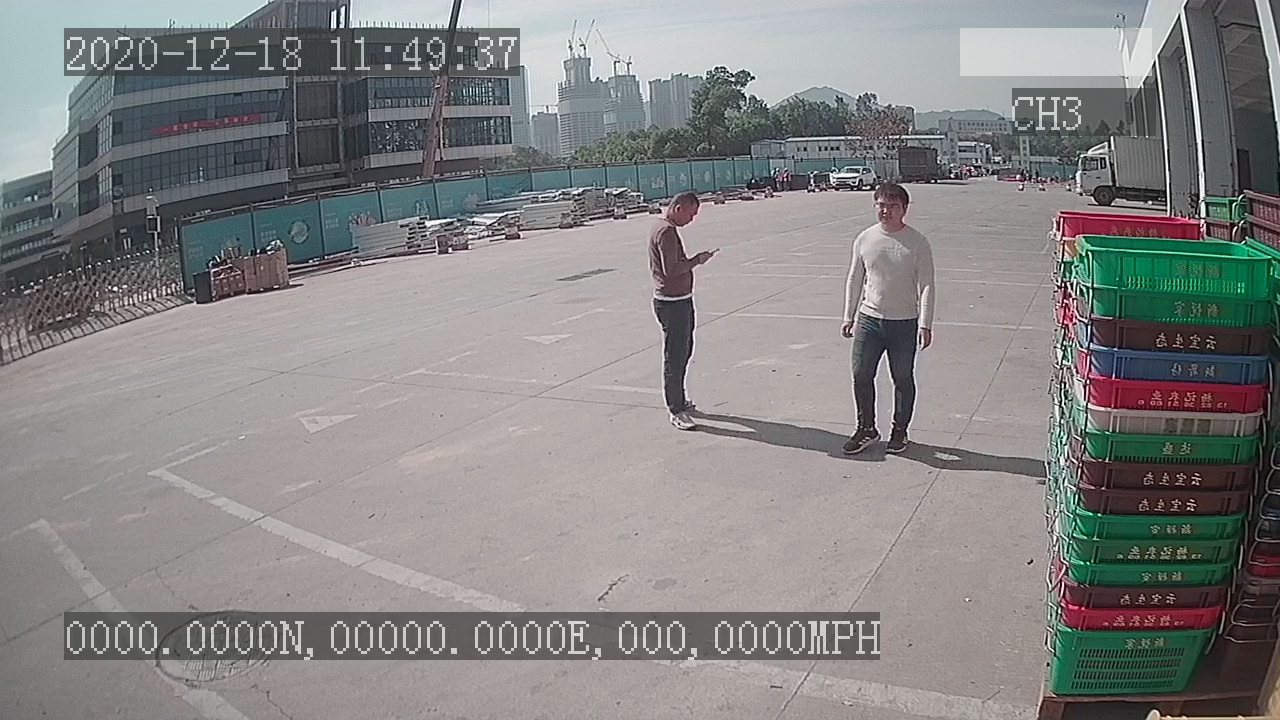person: (836, 177, 938, 460), (645, 186, 718, 435)
